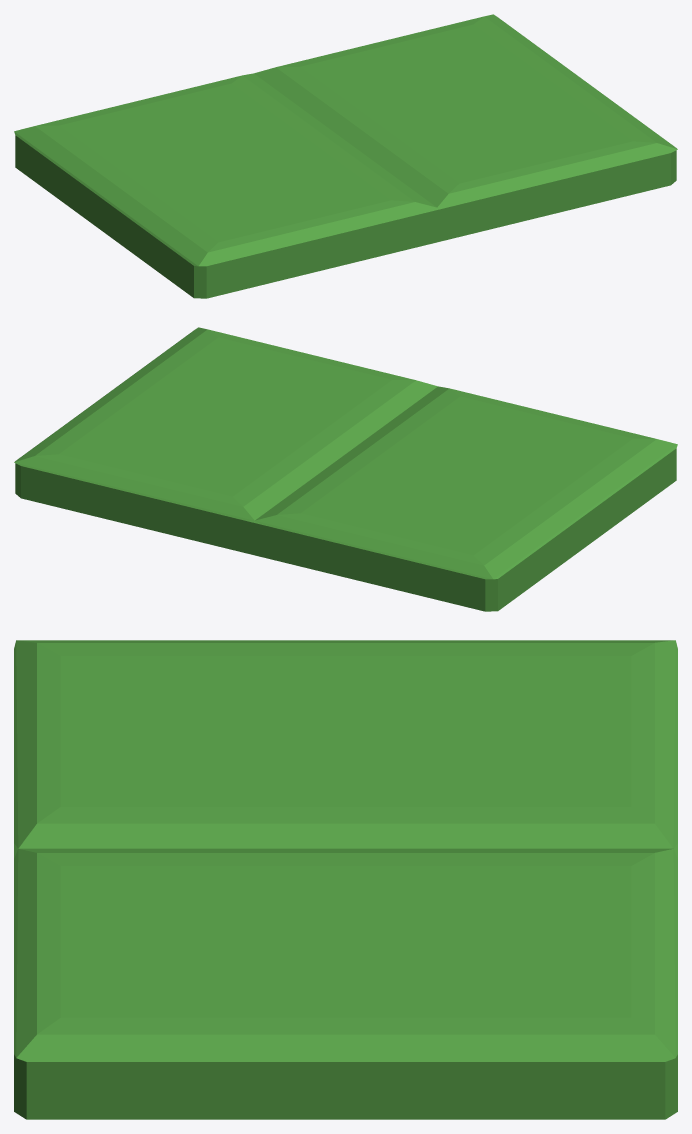
The model's file is Ground.fbx.
3 views of the same model, one above another, from view 1: azimuth 30°, elevation 25°; view 2: azimuth 150°, elevation 25°; view 3: azimuth 270°, elevation 25° (orthographic). The views are drawn at different scales.
Parts seen in each view (by area): view 1: GrassGroundTile; view 2: GrassGroundTile; view 3: GrassGroundTile.
Boxes of the visible parts, left/top/right/bottom form: GrassGroundTile: left=14, top=14, right=677, bottom=298; GrassGroundTile: left=14, top=327, right=677, bottom=611; GrassGroundTile: left=14, top=640, right=677, bottom=1119.
Bounding box in the file's own units: 600 × 48.92 × 400.
